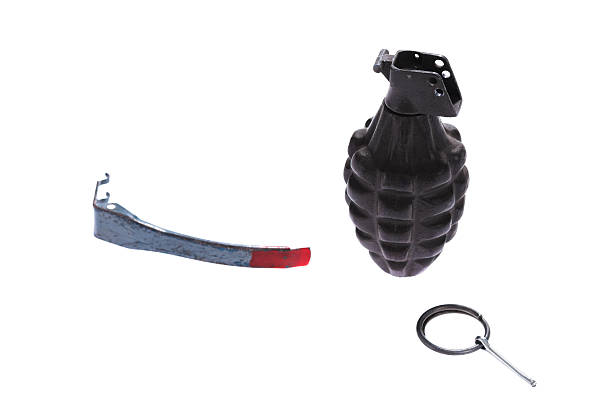e1: (345, 48, 470, 278)
